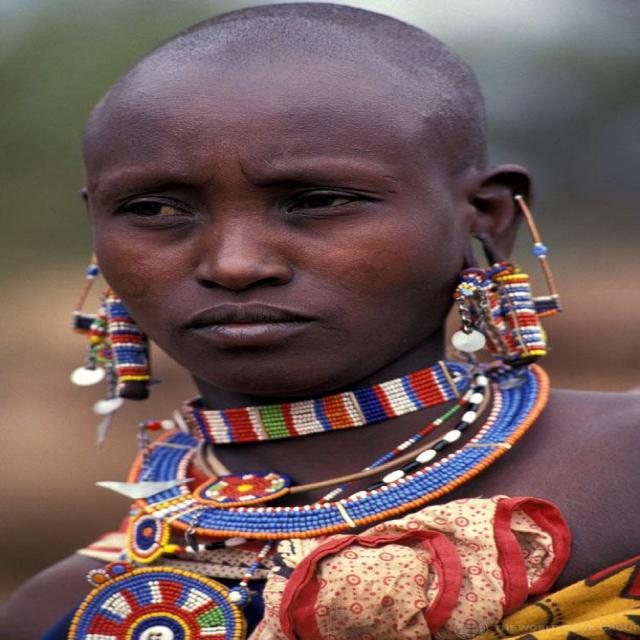no-glass: (107, 187, 372, 232)
